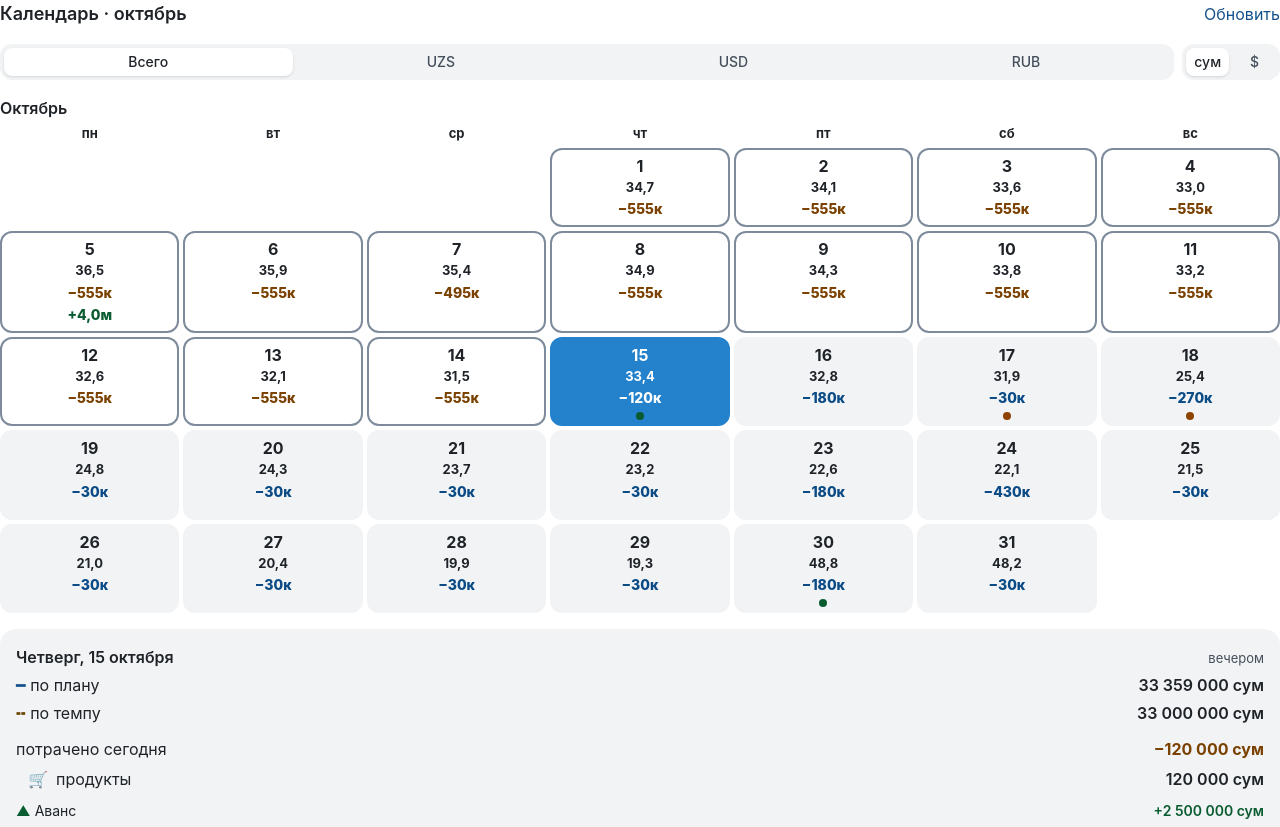
Test: ForecastScreen › selects any day of the month
The image size is (1280, 827).
Expected: the heading "Октябрь" is shown, [0,98,67,118]
Step 1. Click the button "29 19,3 −30к" → [640, 568], box [550,524,730,613]
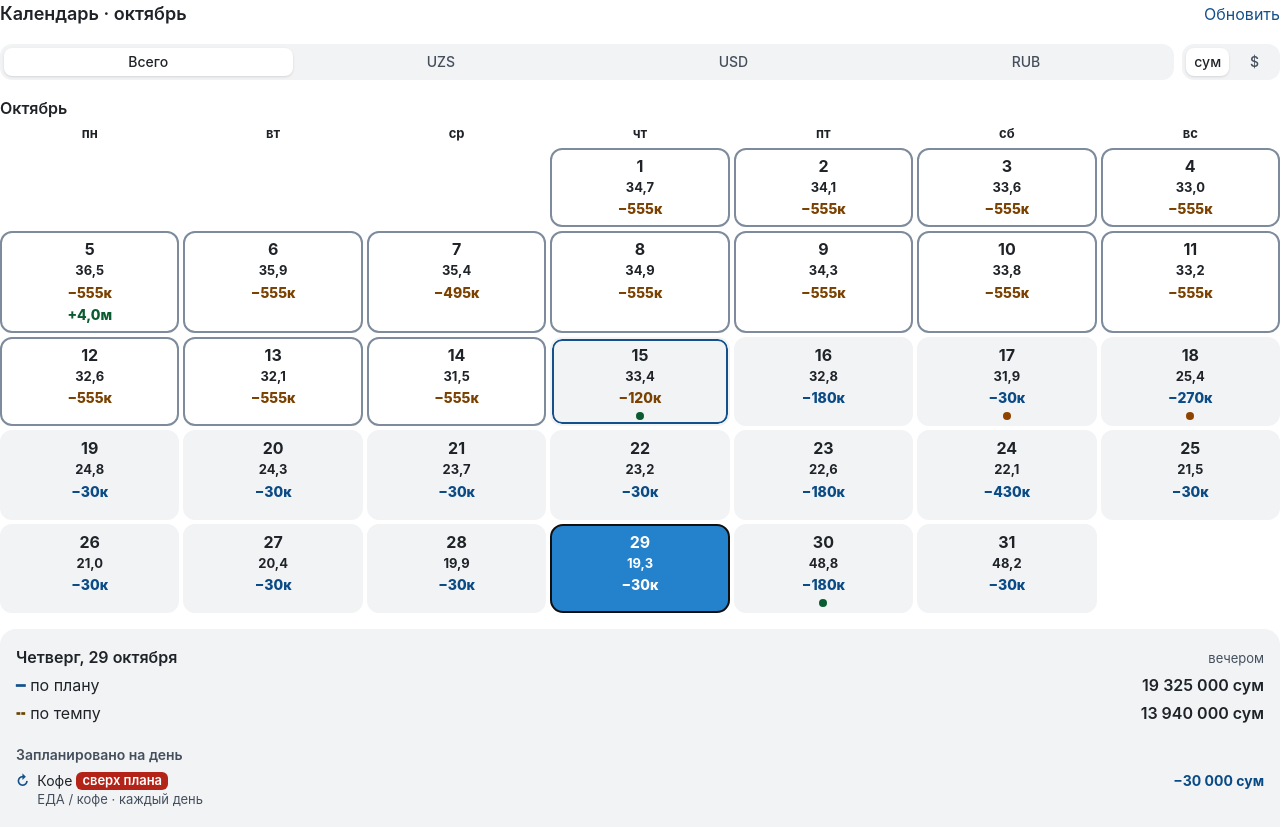
Result: the heading "Четверг, 29 октября" is shown at [16,645,177,669]
